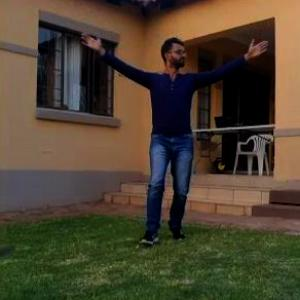takeoff: (75, 24, 264, 230)
